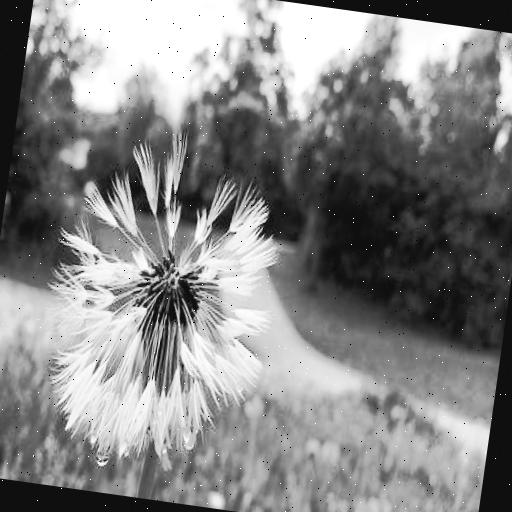dandelion: (32, 122, 290, 478)
